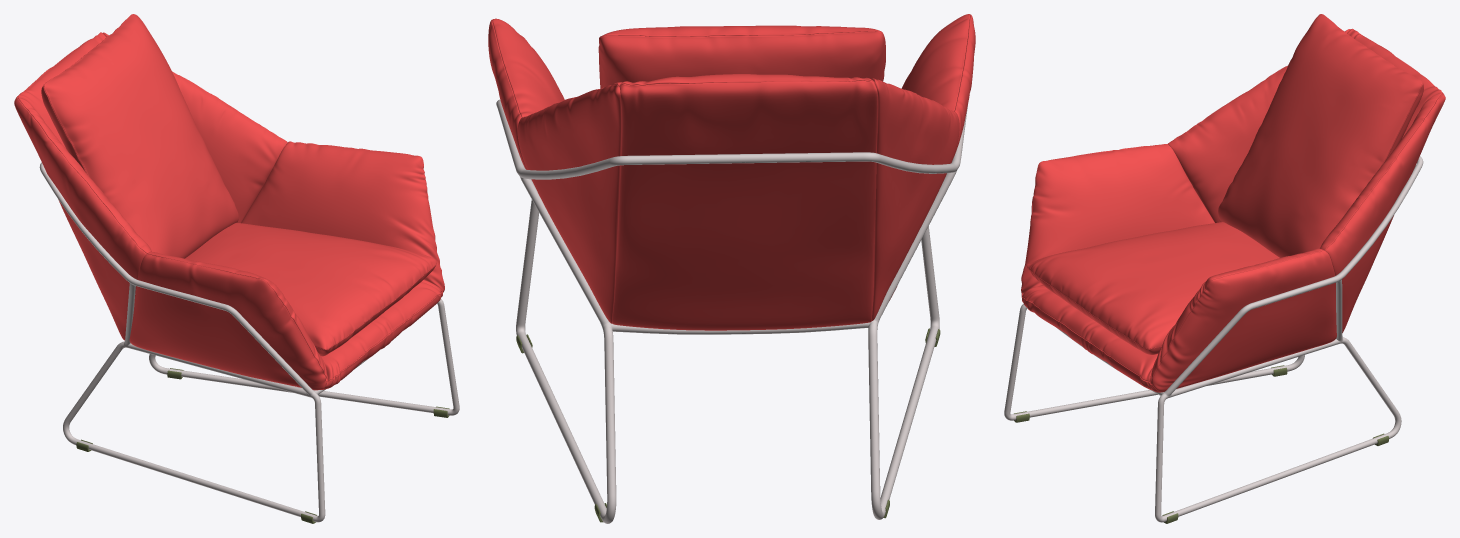
File: sabaside.glb
The picture shows the model from 3 angles, left to right: view 1: azimuth 30°, elevation 25°; view 2: azimuth 150°, elevation 25°; view 3: azimuth 270°, elevation 25°; orthographic projection. The views are drawn at different scales.
Visible parts, largest first — view 1: outercushion, innercushion, baseupper; view 2: outercushion, innercushion, baseupper; view 3: outercushion, innercushion, baseupper.
Boxes of the visible parts, x1,y1,x2,y2 form: outercushion: (14,14,444,390); innercushion: (18,14,443,381); baseupper: (39,162,459,522); outercushion: (488,14,975,330); innercushion: (492,14,970,117); baseupper: (496,99,967,523); outercushion: (1021,14,1445,392); innercushion: (1021,14,1442,384); baseupper: (1004,156,1423,522).
Bounding box in the file's own units: 2.24 × 2.19 × 2.49.
